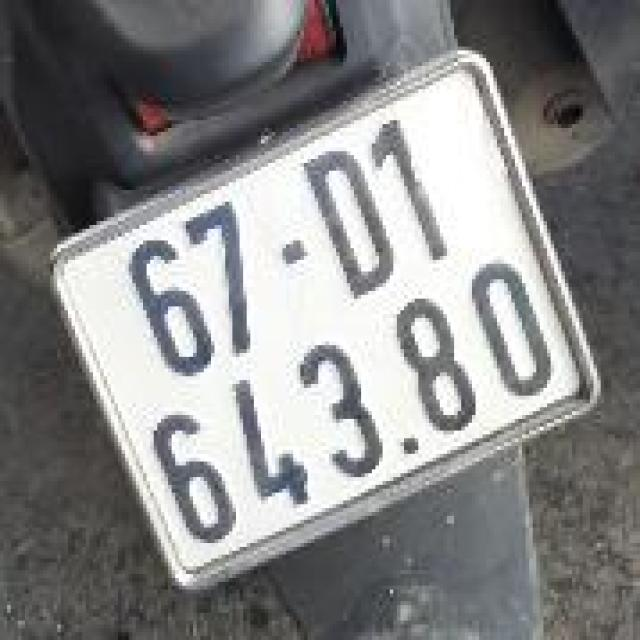0: (456, 245, 563, 410)
1: (358, 109, 461, 280)
3: (282, 330, 395, 496)
4: (214, 361, 326, 524)
6: (110, 223, 227, 394), (136, 395, 250, 558)
7: (173, 191, 291, 362)
8: (379, 286, 493, 446)
D: (289, 129, 413, 312)
